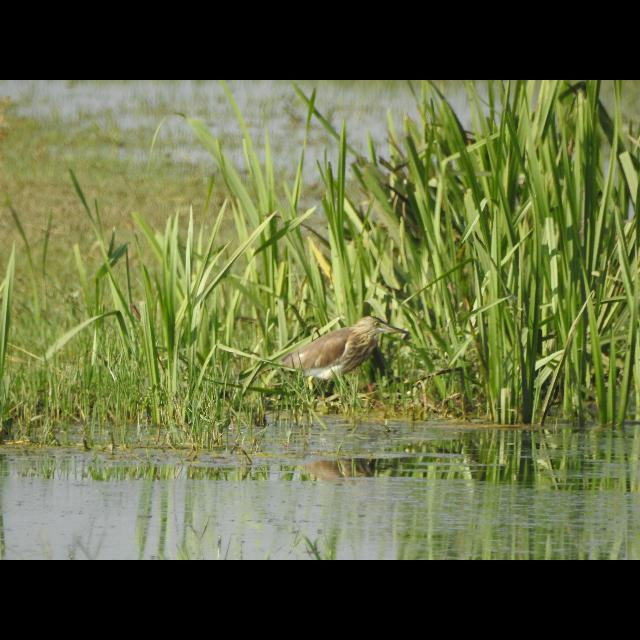heron: (270, 312, 416, 401)
